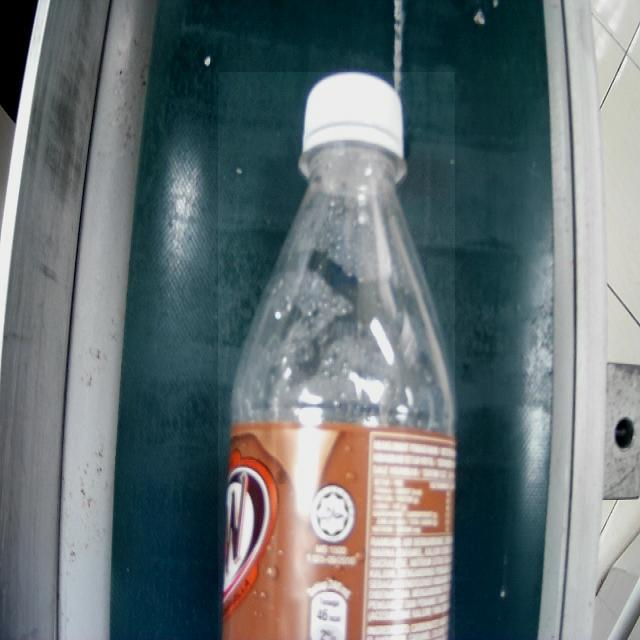Pet_Bottle: (218, 72, 455, 640)
